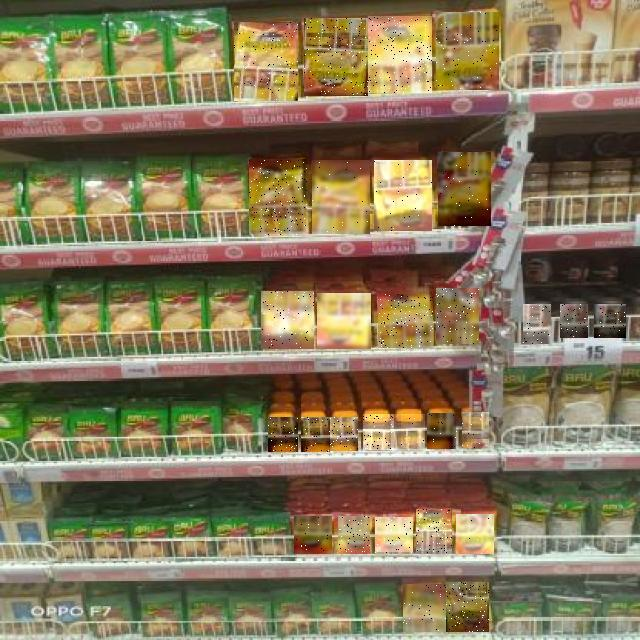Coffee: (234, 22, 298, 101), (304, 18, 368, 96), (368, 16, 432, 93), (436, 12, 499, 90), (250, 160, 308, 236), (313, 160, 371, 234), (374, 160, 432, 231), (438, 152, 491, 226), (261, 291, 314, 349), (317, 293, 371, 349), (378, 294, 433, 348), (436, 288, 479, 344), (446, 582, 489, 632), (403, 585, 446, 633), (416, 510, 452, 554), (457, 514, 495, 554), (294, 517, 332, 555), (375, 518, 413, 554), (338, 517, 370, 555), (393, 415, 425, 451), (523, 304, 551, 344), (594, 305, 626, 339), (428, 413, 458, 449), (364, 415, 394, 451), (268, 417, 298, 452), (301, 417, 330, 452), (462, 412, 489, 448), (560, 304, 588, 338), (331, 417, 359, 451)
